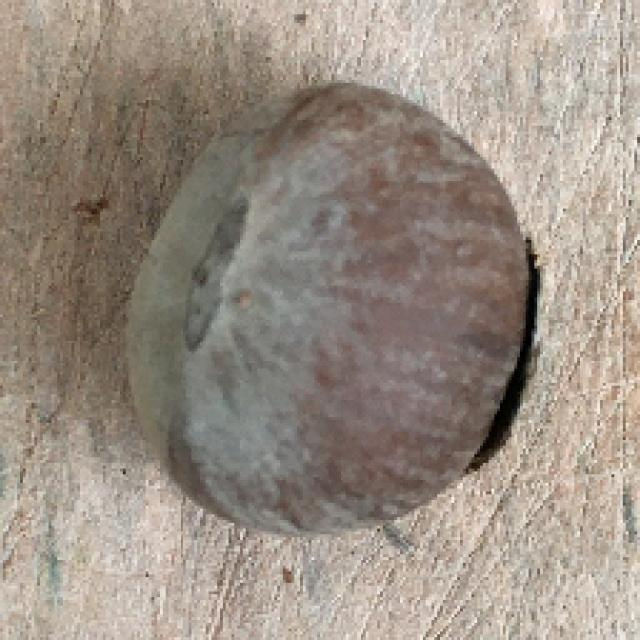damagedHazelnut: (108, 74, 556, 542)
